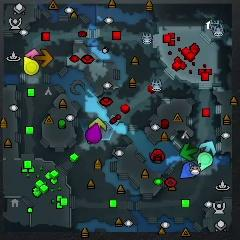p1: (178, 161, 198, 180)
p2: (197, 152, 213, 173)
p3: (86, 123, 101, 144)
p4: (23, 56, 40, 75)
x1: (26, 49, 39, 60)
x2: (88, 117, 108, 131)
x3: (199, 140, 217, 155)
x4: (179, 144, 199, 160)
x5: (32, 49, 55, 68)
